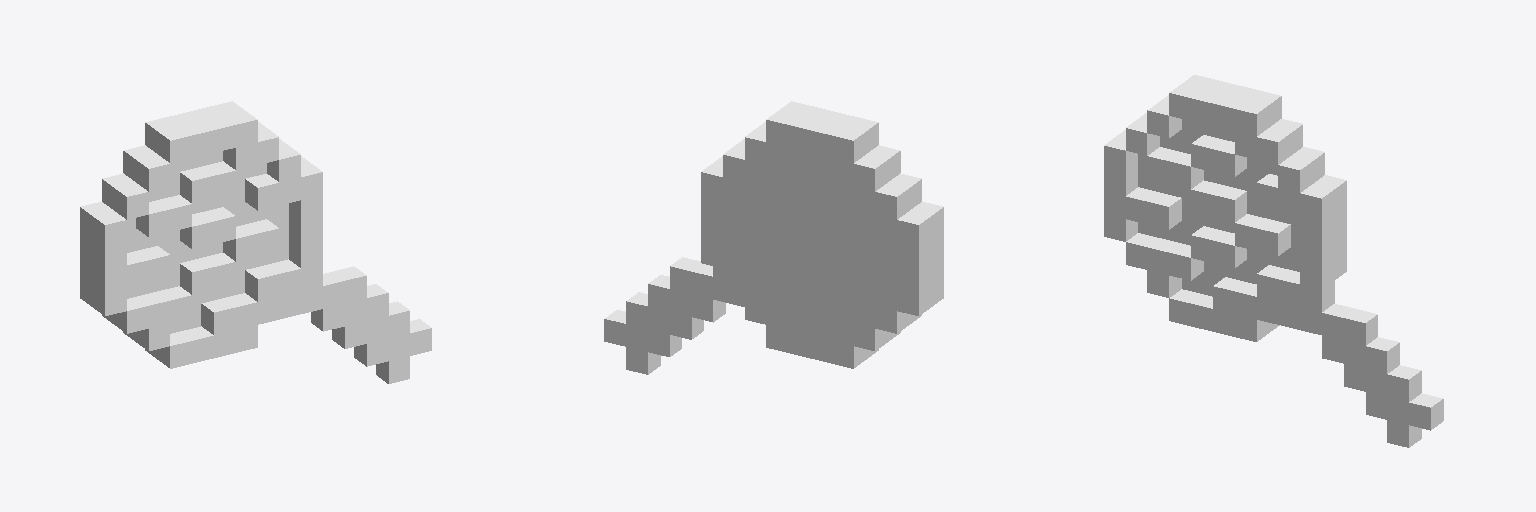
Rendered from bibelot_4.obj.
The picture shows the model from 3 angles: view 1: azimuth 30°, elevation 25°; view 2: azimuth 150°, elevation 25°; view 3: azimuth 330°, elevation 25°; orthographic projection.
Size of the model in its own units: 15 by 13 by 2.